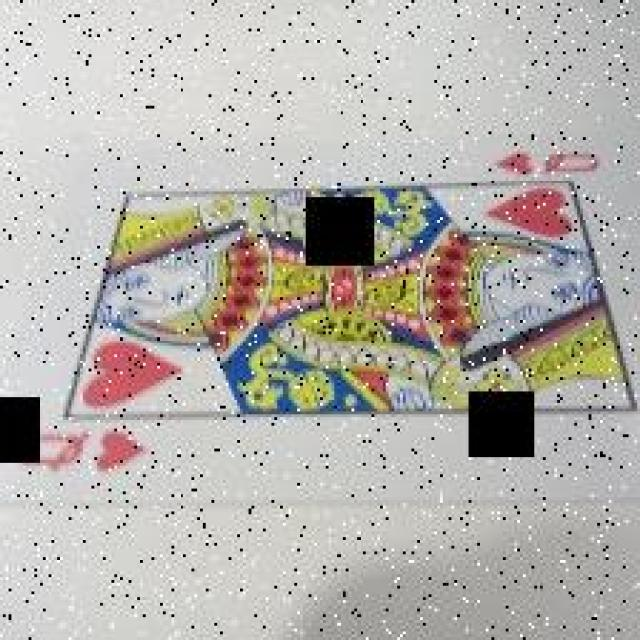Queen of hearts: (0, 140, 634, 500)
